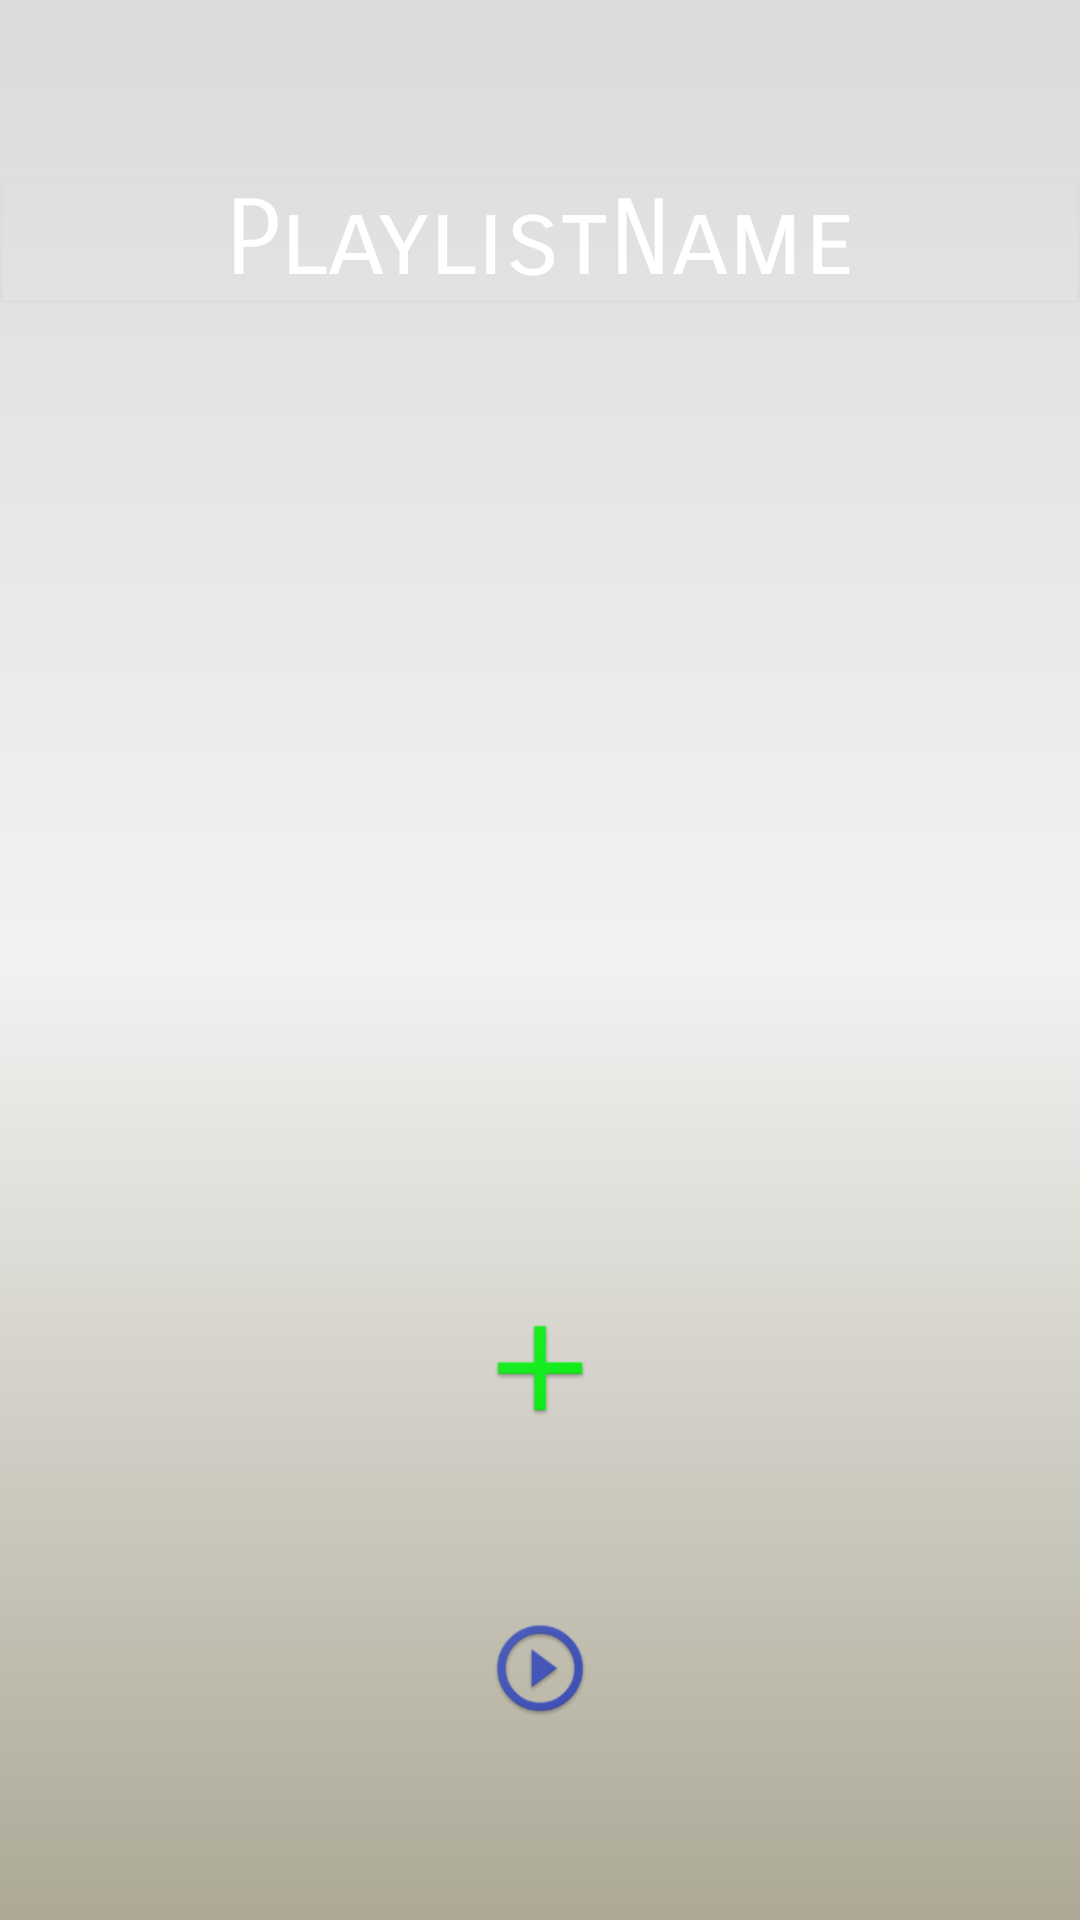

Locate icon controls on the screen. Image size 1080w x 1920h, boxes as (x1, y1, x2, y2).
additem: (497, 1325, 584, 1414)
play: (496, 1625, 584, 1715)
